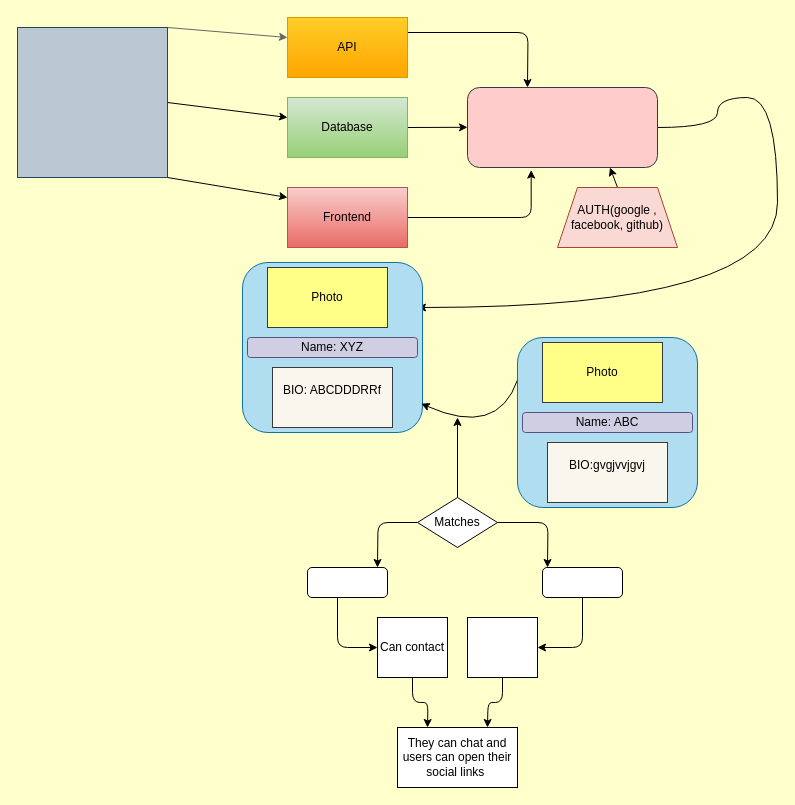
The diagram is 795 pixels wide and 805 high, and some of its shapes have lost their labels. The shapes that lost their labels are listed below. From the top down, each one's centre as x and y in pixels, then its label:
At (92,102): "Next.js Application".
At (562,127): "Users (creation/login/fetching)".
At (347,582): "True".
At (582,582): "False".
At (502,647): "Cannot contact".
